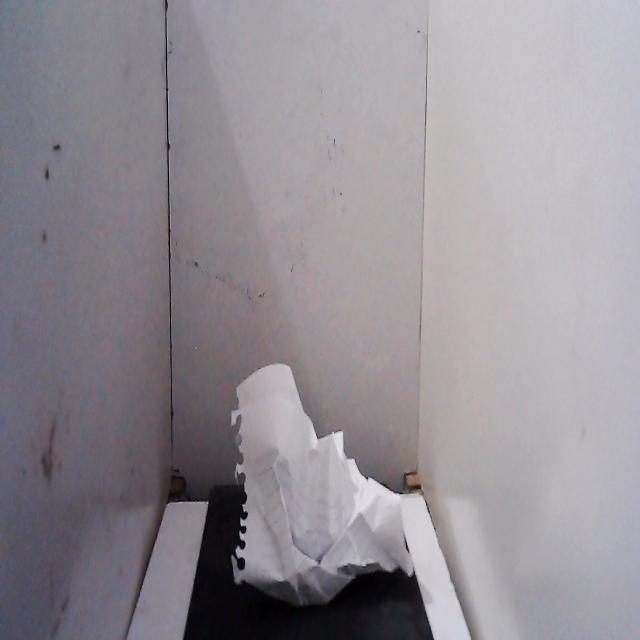papel: (227, 354, 419, 616)
